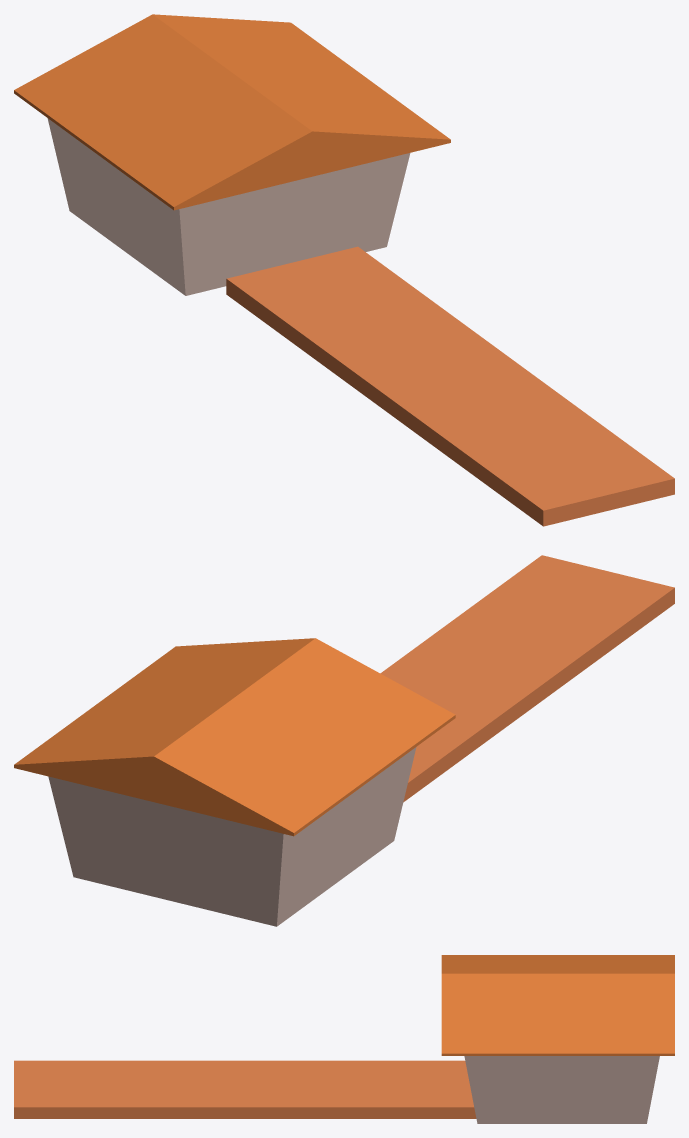
The model's file is port.fbx.
3 views of the same model, one above another, from view 1: azimuth 30°, elevation 25°; view 2: azimuth 150°, elevation 25°; view 3: azimuth 270°, elevation 25° (orthographic). The views are drawn at different scales.
Visible parts, largest first — view 1: Cube; view 2: Cube; view 3: Cube.
Boxes of the visible parts, x1,y1,x2,y2 form: Cube: (14,14,674,526); Cube: (14,555,674,926); Cube: (14,955,674,1123).
Size of the model in its own units: 275 by 157 by 780.
